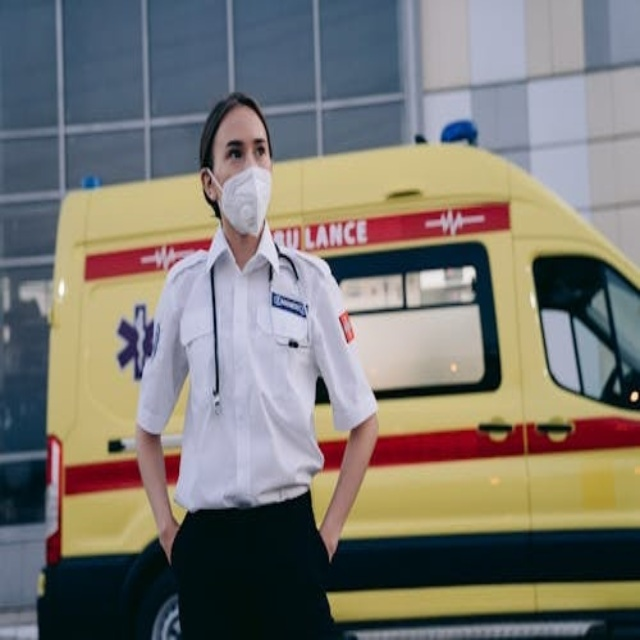Mascara: (210, 164, 271, 236)
Sin_gafas: (215, 133, 269, 163)
